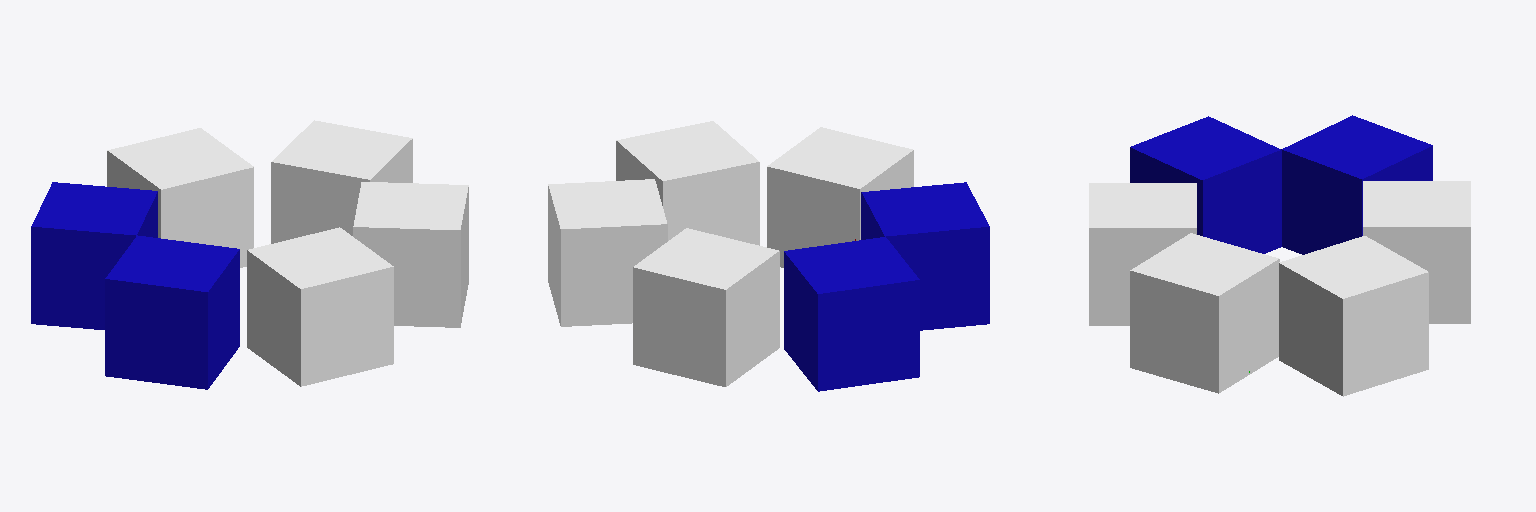
3 views of the same model, side by side, from view 1: azimuth 30°, elevation 25°; view 2: azimuth 150°, elevation 25°; view 3: azimuth 270°, elevation 25° (orthographic).
Visible parts, largest first — view 1: Cube.005_Cube.006, Cube.003_Cube.004, Cube.002_Cube.003, Cube.004_Cube.005, Cube_Cube.001, Cube.001_Cube.002; view 2: Cube_Cube.001, Cube.002_Cube.003, Cube.001_Cube.002, Cube.003_Cube.004, Cube.005_Cube.006, Cube.004_Cube.005; view 3: Cube.001_Cube.002, Cube.004_Cube.005, Cube.003_Cube.004, Cube.002_Cube.003, Cube_Cube.001, Cube.005_Cube.006.
Part boxes in pixels (x1,y1,x2,y2): Cube.005_Cube.006: (247,227,393,386); Cube.003_Cube.004: (105,235,239,389); Cube.002_Cube.003: (31,182,157,329); Cube.004_Cube.005: (353,182,468,327); Cube_Cube.001: (107,128,253,267); Cube.001_Cube.002: (271,120,412,243); Cube_Cube.001: (633,228,779,386); Cube.002_Cube.003: (784,237,919,391); Cube.001_Cube.002: (548,179,667,326); Cube.003_Cube.004: (861,182,989,330); Cube.005_Cube.006: (767,127,913,267); Cube.004_Cube.005: (616,121,759,245); Cube.001_Cube.002: (1279,236,1428,396); Cube.004_Cube.005: (1130,233,1279,393); Cube.003_Cube.004: (1130,116,1281,253); Cube.002_Cube.003: (1281,115,1432,254); Cube_Cube.001: (1363,181,1470,323); Cube.005_Cube.006: (1089,183,1196,325).
Bounding box in the file's own units: 8.08 × 2 × 7.09.
6 materials, 4 textured.